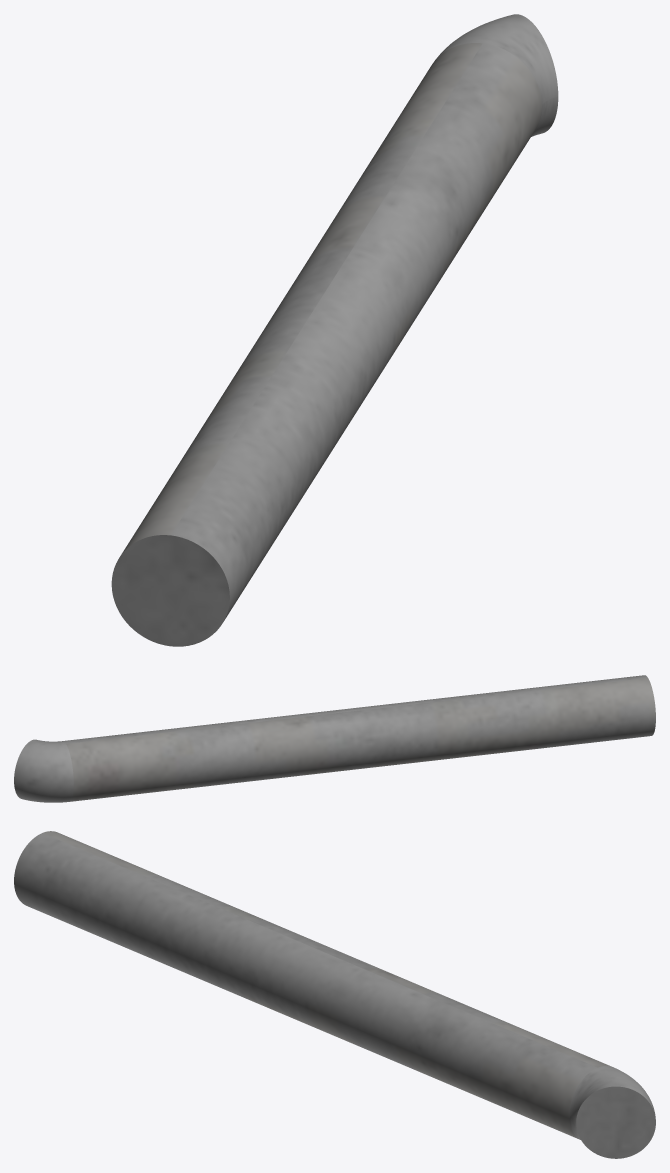
Rendered from tubo_50_codo45.glb.
The picture shows the model from 3 angles, top to bottom: view 1: azimuth 30°, elevation 25°; view 2: azimuth 150°, elevation 25°; view 3: azimuth 270°, elevation 25°; orthographic projection. The views are drawn at different scales.
Parts seen in each view (by area): view 1: diagonal.001; view 2: diagonal.001; view 3: diagonal.001.
Part boxes in pixels (box(x1,y1,x2,y2)): diagonal.001: box(111, 14, 558, 646); diagonal.001: box(14, 675, 655, 802); diagonal.001: box(14, 831, 655, 1158).
Size of the model in its own units: 0.3998 by 0.0508 by 0.4086.
Materials: 1 (1 with a texture image).
